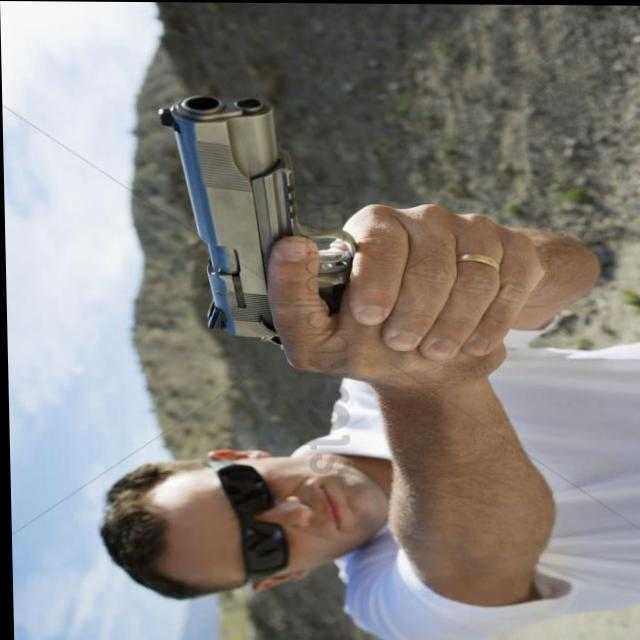handgun: (156, 89, 503, 373)
